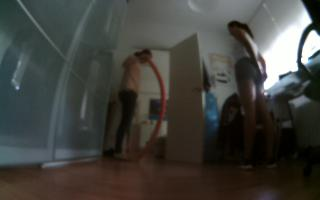person: (218, 16, 287, 175), (107, 40, 162, 160)
